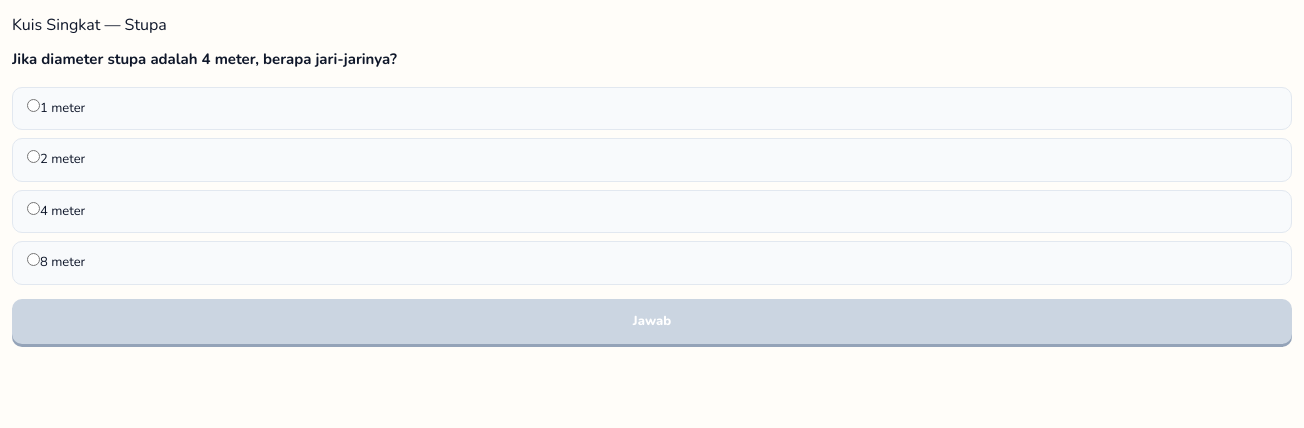
Test: PRD #55 critical frontend tests › 9. micro quiz uses server correctness
Click the radio button labelled "8 meter". click: (34, 260)
box: x1=27 y1=253 x2=40 y2=266
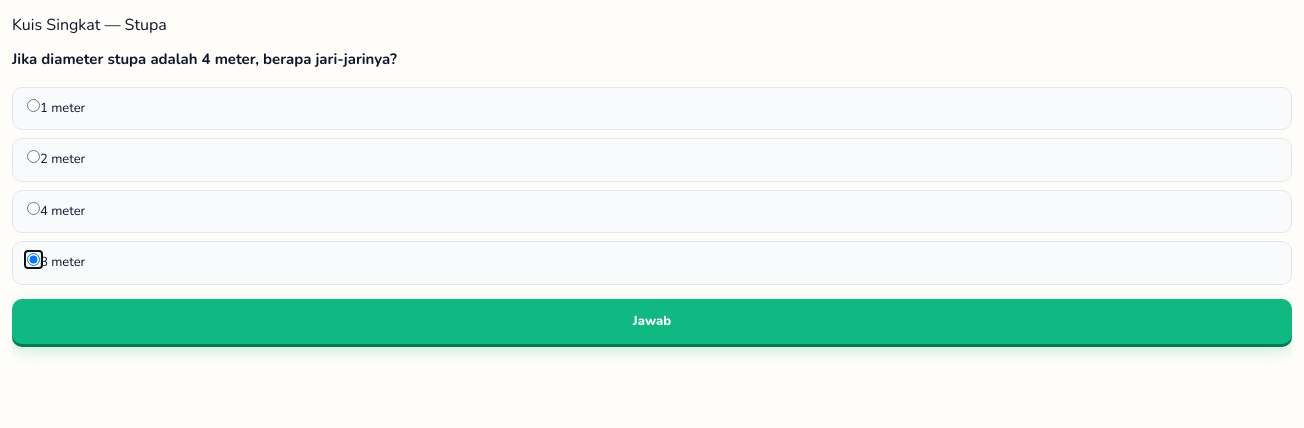
Click the button "Jawab". click: (652, 321)
box: x1=12 y1=299 x2=1292 y2=344
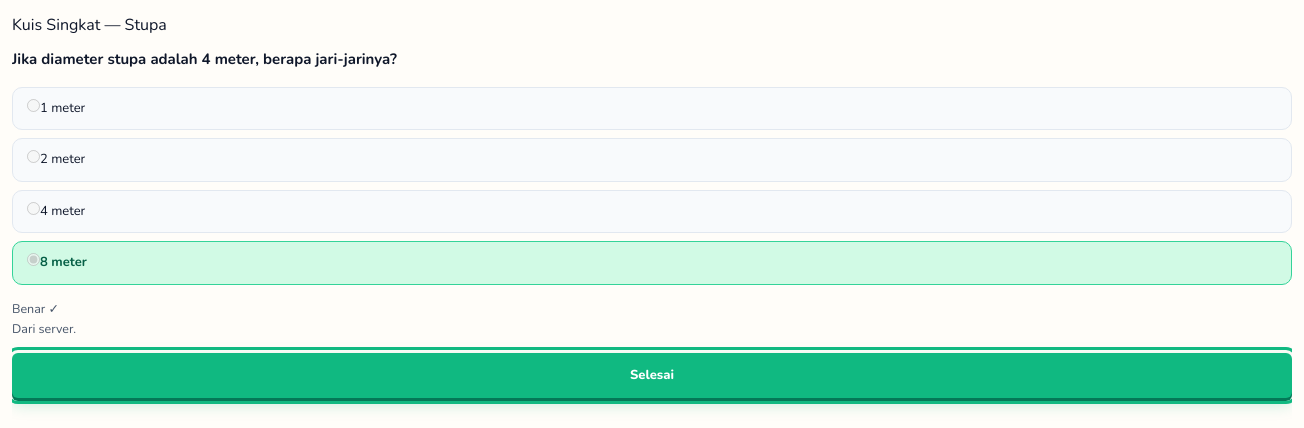
Now the text "Benar ✓" is shown, box x1=12 y1=300 x2=59 y2=317
Now the text "Dari server." is shown, box x1=12 y1=320 x2=76 y2=337
